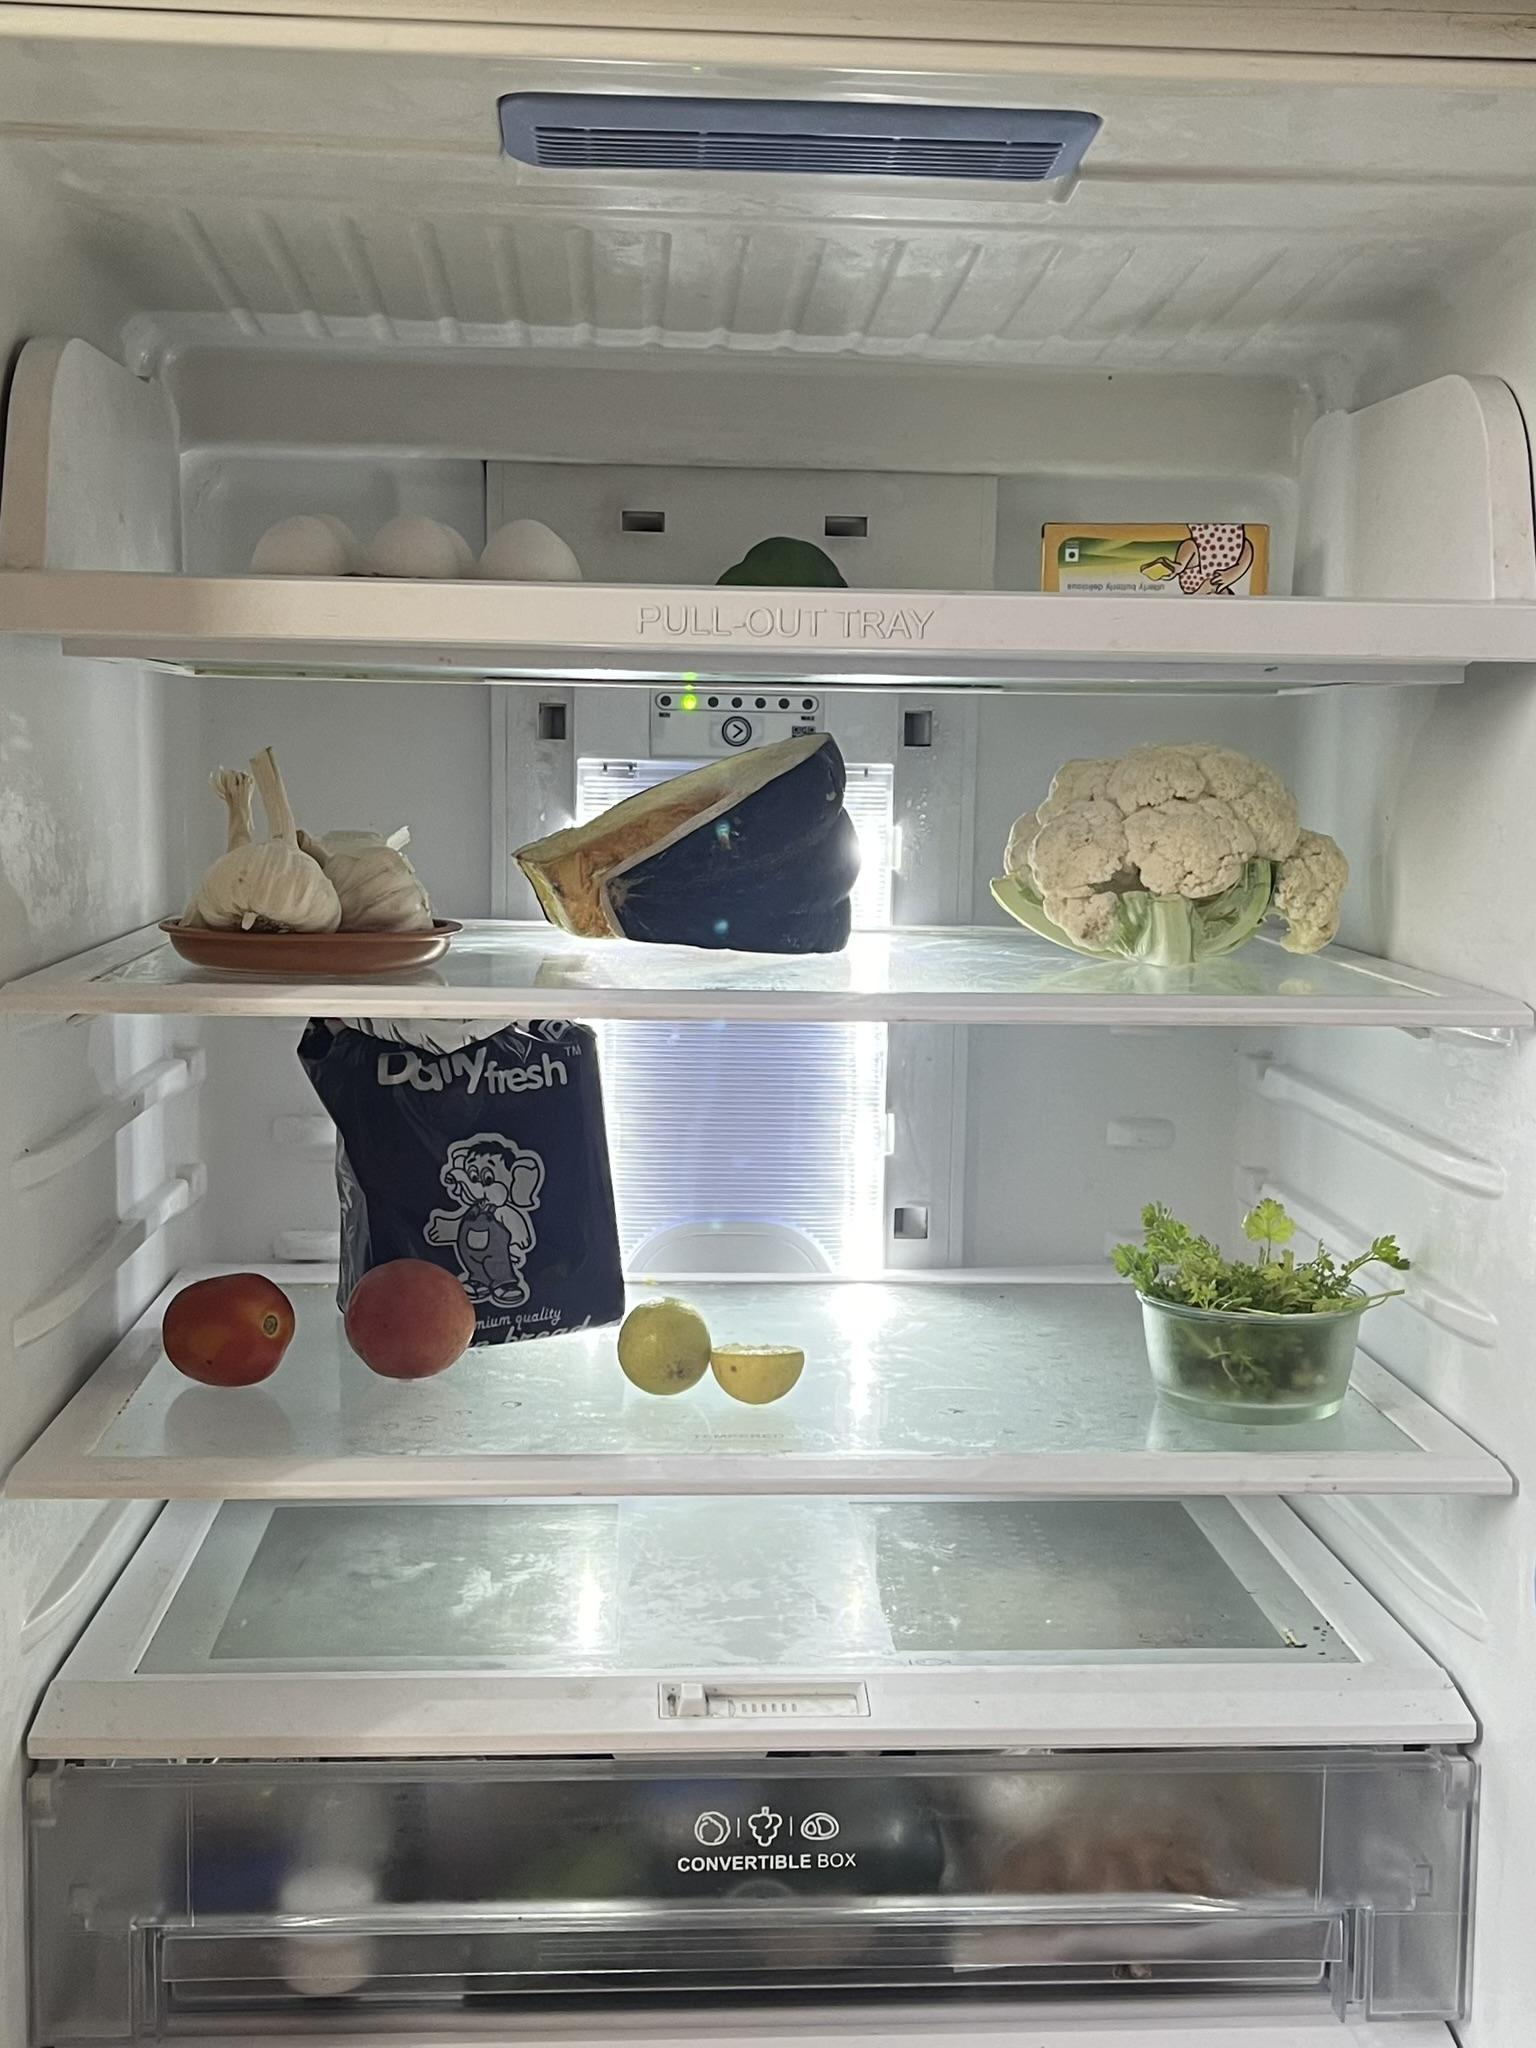bread: (303, 1016, 623, 1343)
butter: (1037, 516, 1270, 590)
capsicum: (707, 524, 850, 590)
cauliflower: (1000, 743, 1344, 963)
coriander: (1126, 1206, 1386, 1409)
egg: (234, 506, 594, 581)
garlic: (194, 750, 431, 927)
lemon: (620, 1293, 803, 1403)
pumpkin: (520, 731, 863, 953)
tomato: (163, 1274, 297, 1397), (347, 1266, 476, 1377)
